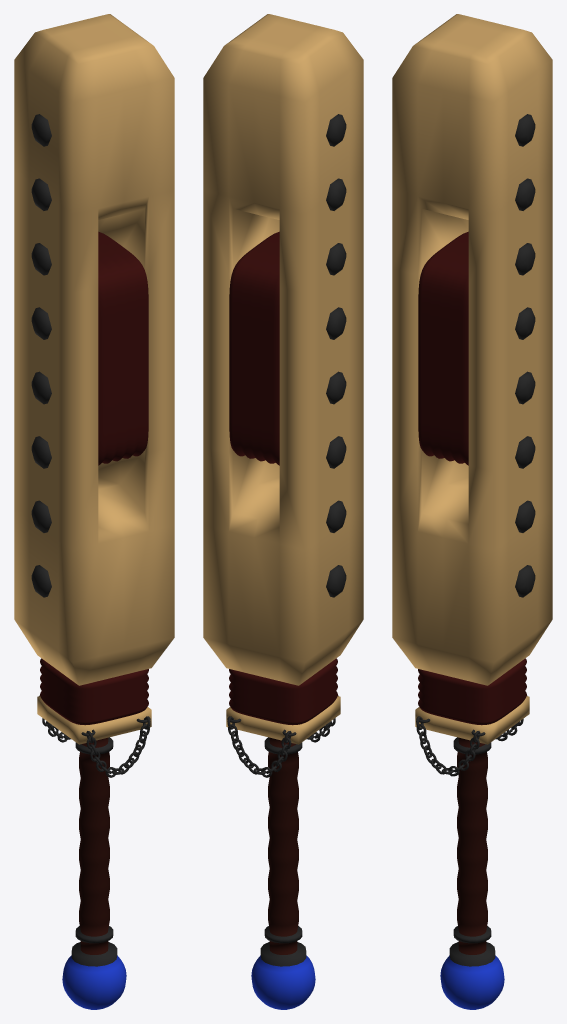
3 views of the same model, side by side, from view 1: azimuth 30°, elevation 25°; view 2: azimuth 150°, elevation 25°; view 3: azimuth 330°, elevation 25° (orthographic).
Visible parts, largest first — view 1: Club LP (×5); view 2: Club LP (×5); view 3: Club LP (×5).
Part boxes in pixels (bbox=[...]): Club LP (×5): bbox=[14, 14, 174, 1009]; Club LP (×5): bbox=[203, 14, 363, 1009]; Club LP (×5): bbox=[392, 14, 552, 1009].
Bounding box in the file's own units: 0.2525 × 2 × 0.2288.
